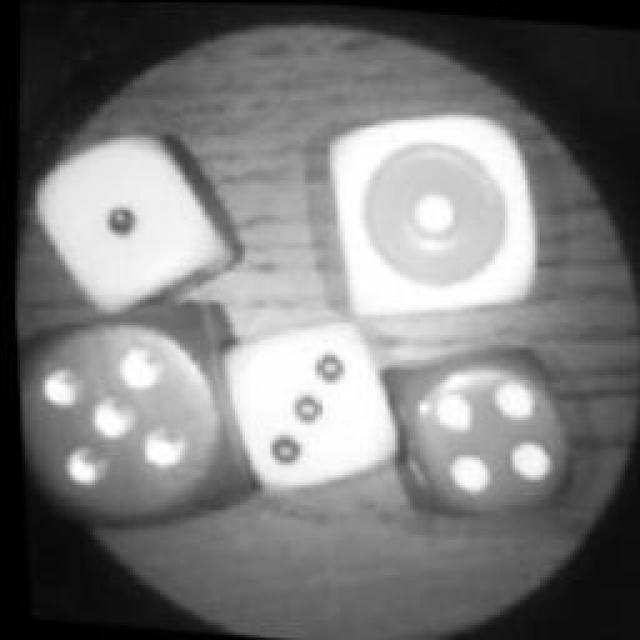dice_1: (10, 116, 252, 332)
dice_3: (206, 301, 409, 511)
dice_4: (361, 328, 594, 532)
dice_5: (10, 286, 268, 544), (306, 96, 554, 336)
